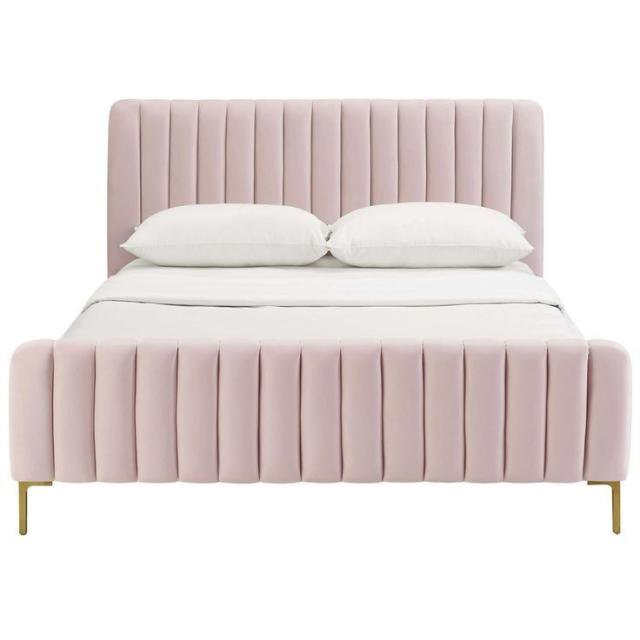obstacle: (8, 96, 632, 538)
